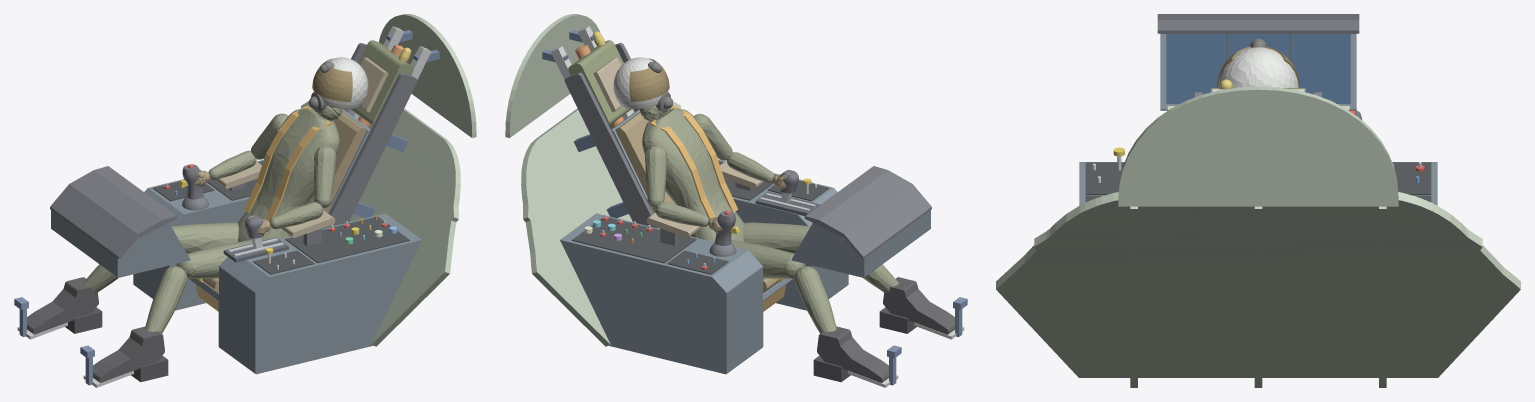
Rendered from cockpit.glb.
3 renders of one model, left to right at view 1: azimuth 30°, elevation 25°; view 2: azimuth 150°, elevation 25°; view 3: azimuth 270°, elevation 25°, orthographic. The views are drawn at different scales.
Visible parts, largest first — view 1: ck_12, ck_25, ck_19, ck_08, ck_01, ck_05, ck_24, ck_32, ck_21, ck_17, ck_28, ck_04 (+6 smaller); view 2: ck_12, ck_25, ck_19, ck_08, ck_01, ck_05, ck_24, ck_32, ck_17, ck_21, ck_28, ck_04 (+6 smaller); view 3: ck_25, ck_00, ck_08, ck_34, ck_01, ck_12.
Boxes of the visible parts, <box> form: ck_12: <box>51,159,421,374</box>; ck_25: <box>263,14,476,346</box>; ck_19: <box>83,106,342,333</box>; ck_08: <box>50,43,417,259</box>; ck_01: <box>153,161,409,274</box>; ck_05: <box>27,277,164,382</box>; ck_24: <box>215,57,388,237</box>; ck_32: <box>243,105,332,221</box>; ck_21: <box>202,111,366,293</box>; ck_17: <box>351,40,413,125</box>; ck_28: <box>17,26,430,387</box>; ck_04: <box>65,307,168,382</box>; ck_12: <box>560,159,930,374</box>; ck_25: <box>505,14,718,346</box>; ck_19: <box>639,105,898,333</box>; ck_08: <box>564,43,931,259</box>; ck_01: <box>572,161,828,274</box>; ck_05: <box>817,277,954,382</box>; ck_24: <box>593,57,763,237</box>; ck_32: <box>649,105,738,219</box>; ck_17: <box>568,40,630,125</box>; ck_21: <box>615,111,779,293</box>; ck_28: <box>551,26,964,387</box>; ck_04: <box>813,307,916,382</box>; ck_25: <box>996,86,1520,387</box>; ck_00: <box>1166,34,1350,103</box>; ck_08: <box>1157,14,1362,119</box>; ck_34: <box>1218,47,1298,87</box>; ck_01: <box>1085,162,1431,202</box>; ck_12: <box>1079,33,1437,205</box>.
Bounding box in the file's own units: 2.06 × 1.35 × 1.69.
